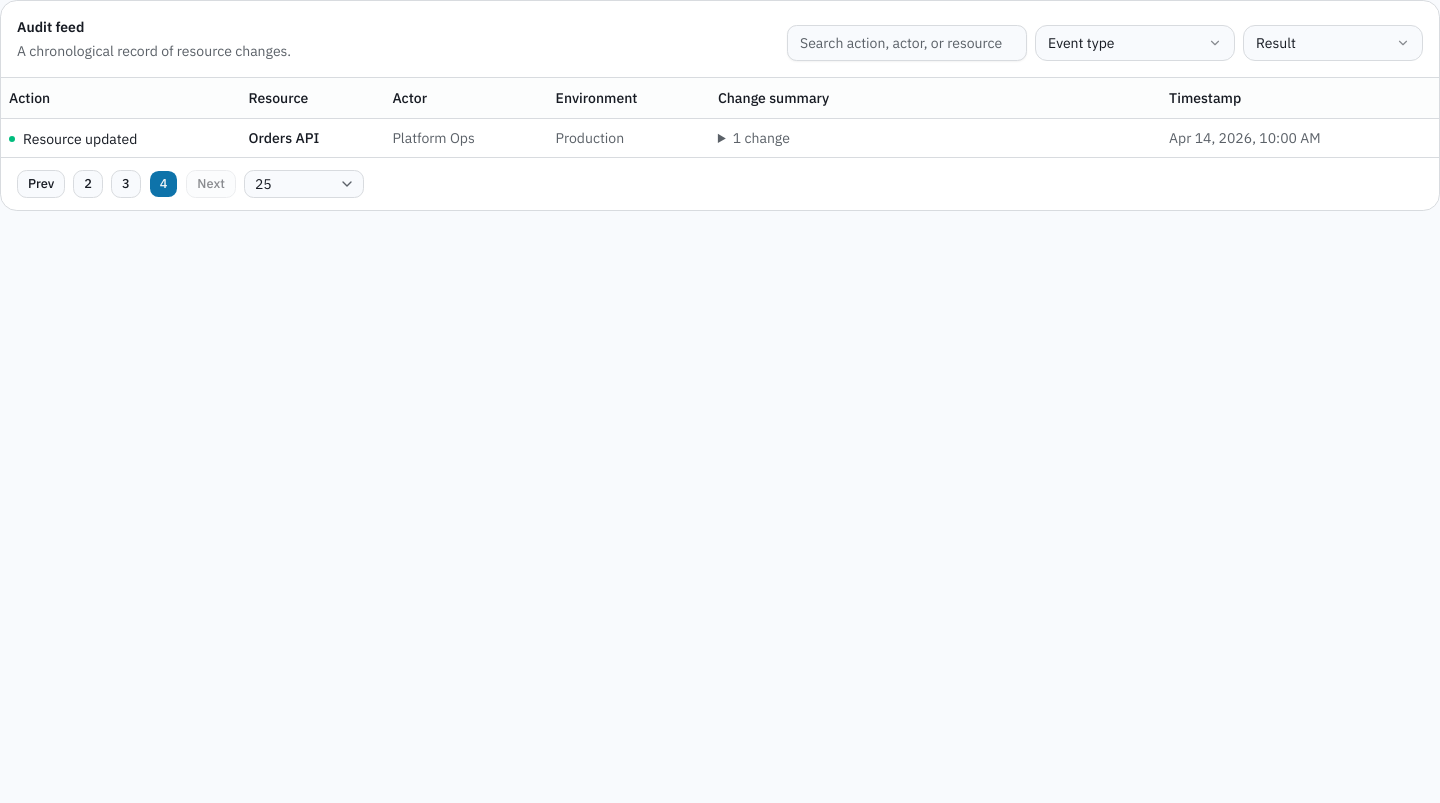
Scenario: AuditTable › shows known audit filter options even when the current page omits them
Click the button "Event type" at (1135, 43), box x1=1035 y1=25 x2=1235 y2=61
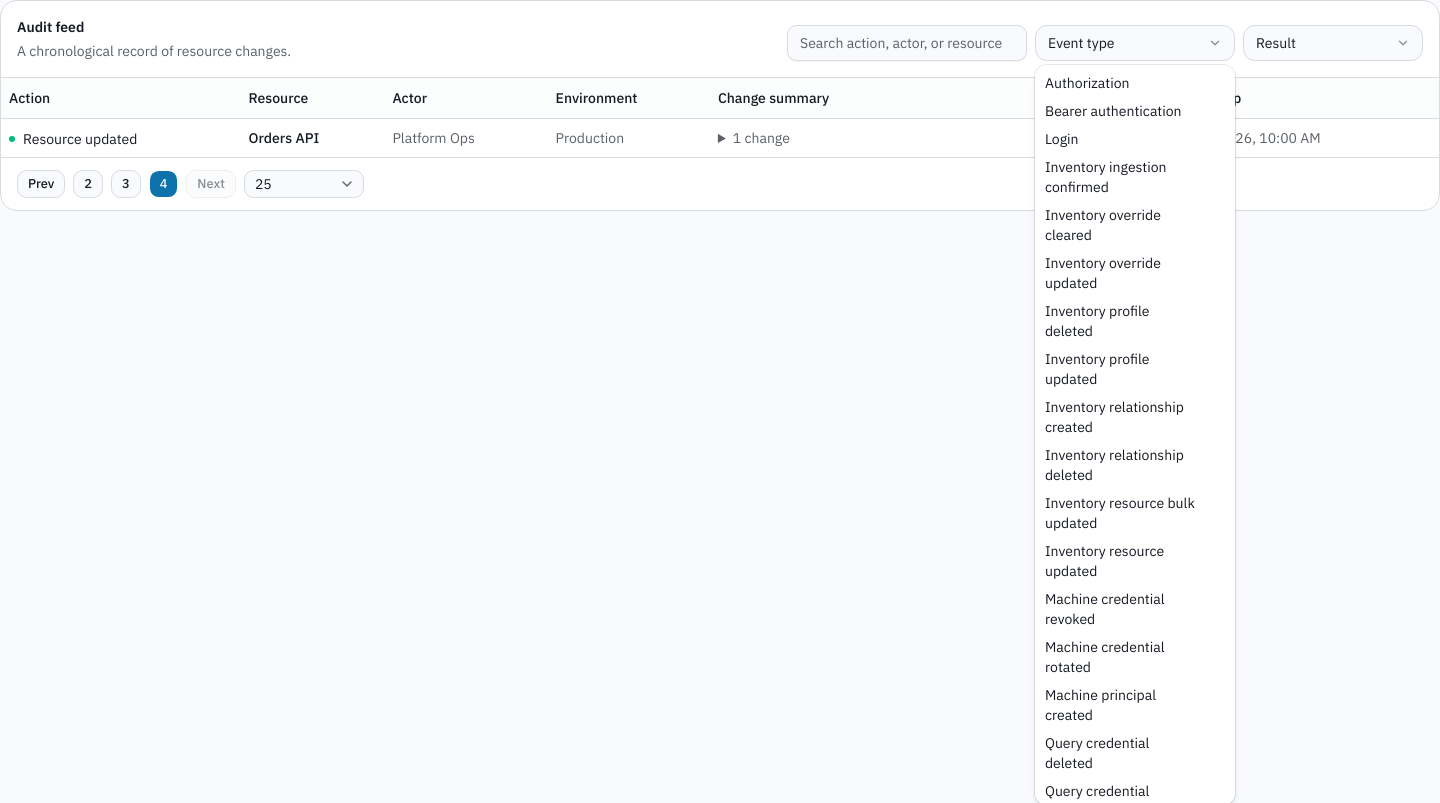
Check: the menu item "Inventory profile updated" is shown, box x1=1045 y1=350 x2=1150 y2=388
Check: the menu item "Inventory relationship deleted" is shown, box x1=1045 y1=446 x2=1184 y2=484
Check: the menu item "Login" is shown, box x1=1045 y1=130 x2=1079 y2=148
